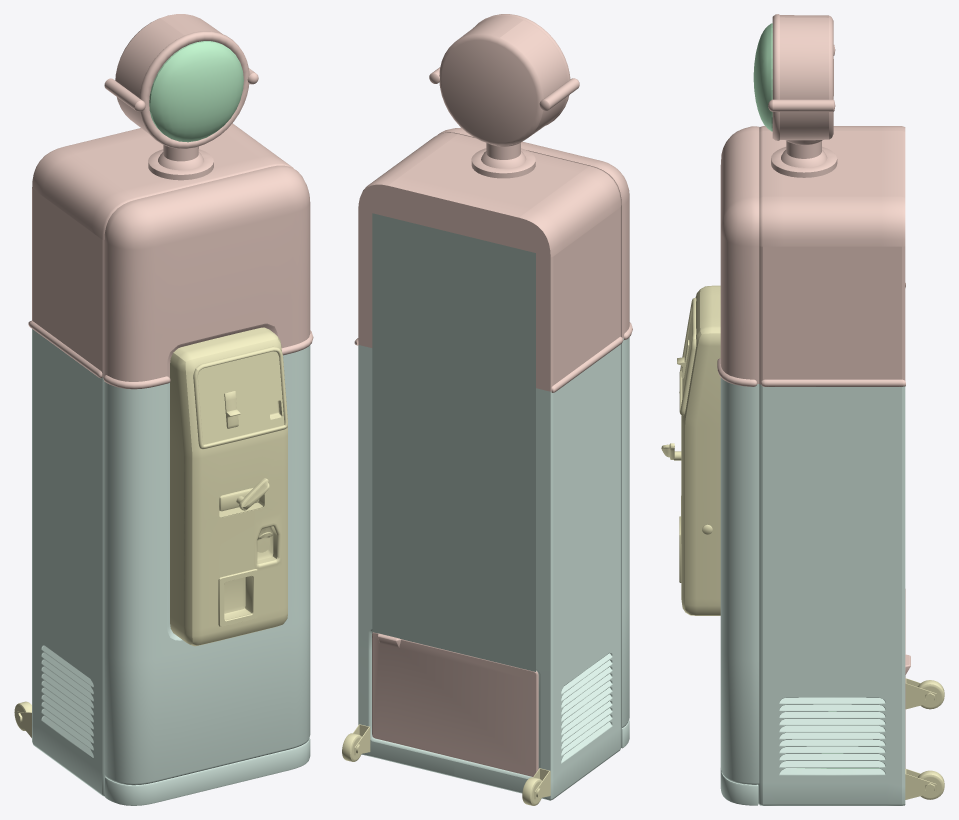
Rendered from Juggernog.fbx.
3 views of the same model, side by side, from view 1: azimuth 30°, elevation 25°; view 2: azimuth 150°, elevation 25°; view 3: azimuth 270°, elevation 25° (orthographic). The views are drawn at different scales.
Visible parts, largest first — view 1: mc_mtl_p7_zm_vending_jugg_bottom, mc_mtl_p7_zm_vending_jugg_top, mc_mtl_p7_zm_vending_jugg, mc_mtl_p7_zm_vending_jugg_sign; view 2: mc_mtl_p7_zm_vending_jugg_mc_mtl_p7_zm_vending_sleight_coil, mc_mtl_p7_zm_vending_jugg_top, mc_mtl_p7_zm_vending_jugg_bottom, mc_mtl_p7_zm_vending_jugg; view 3: mc_mtl_p7_zm_vending_jugg_bottom, mc_mtl_p7_zm_vending_jugg_top, mc_mtl_p7_zm_vending_jugg, mc_mtl_p7_zm_vending_jugg_sign.
Boxes of the visible parts, bbox=[...] form: mc_mtl_p7_zm_vending_jugg_bottom: bbox=[32, 329, 310, 805]; mc_mtl_p7_zm_vending_jugg_top: bbox=[28, 14, 313, 389]; mc_mtl_p7_zm_vending_jugg: bbox=[14, 327, 287, 737]; mc_mtl_p7_zm_vending_jugg_sign: bbox=[149, 41, 243, 142]; mc_mtl_p7_zm_vending_jugg_mc_mtl_p7_zm_vending_sleight_coil: bbox=[372, 213, 535, 671]; mc_mtl_p7_zm_vending_jugg_top: bbox=[354, 14, 632, 776]; mc_mtl_p7_zm_vending_jugg_bottom: bbox=[358, 337, 629, 800]; mc_mtl_p7_zm_vending_jugg: bbox=[342, 724, 550, 805]; mc_mtl_p7_zm_vending_jugg_bottom: bbox=[720, 377, 905, 805]; mc_mtl_p7_zm_vending_jugg_top: bbox=[717, 14, 910, 768]; mc_mtl_p7_zm_vending_jugg: bbox=[661, 285, 944, 799]; mc_mtl_p7_zm_vending_jugg_sign: bbox=[753, 23, 879, 768].
Bounding box in the file's own units: 3045 × 10425 × 3627.
